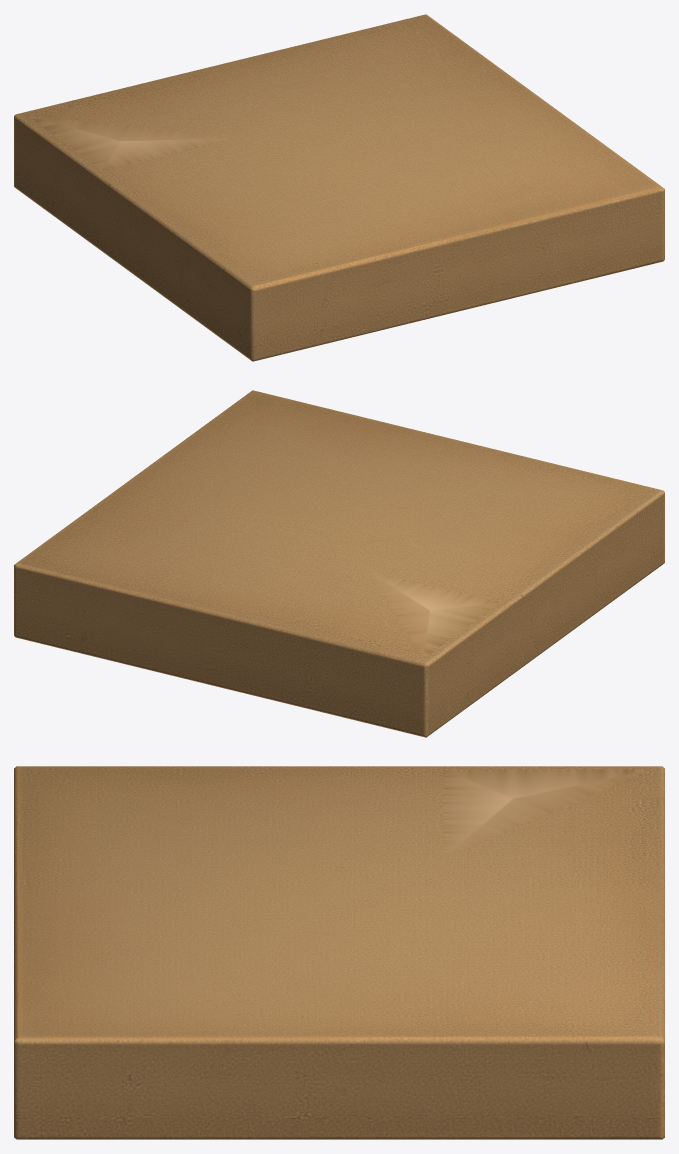
File: wallmodel.fbx
3 views of the same model, one above another, from view 1: azimuth 30°, elevation 25°; view 2: azimuth 150°, elevation 25°; view 3: azimuth 270°, elevation 25° (orthographic). The views are drawn at different scales.
Parts seen in each view (by area): view 1: tripo_node_670ccb87-13a7-4cd3-aacd-a78a83486a2c; view 2: tripo_node_670ccb87-13a7-4cd3-aacd-a78a83486a2c; view 3: tripo_node_670ccb87-13a7-4cd3-aacd-a78a83486a2c.
Part boxes in pixels (x1,y1,x2,y2): tripo_node_670ccb87-13a7-4cd3-aacd-a78a83486a2c: [14, 14, 664, 361]; tripo_node_670ccb87-13a7-4cd3-aacd-a78a83486a2c: [14, 390, 664, 737]; tripo_node_670ccb87-13a7-4cd3-aacd-a78a83486a2c: [14, 766, 664, 1139].
Size of the model in its own units: 0.998 by 0.1777 by 0.998.
